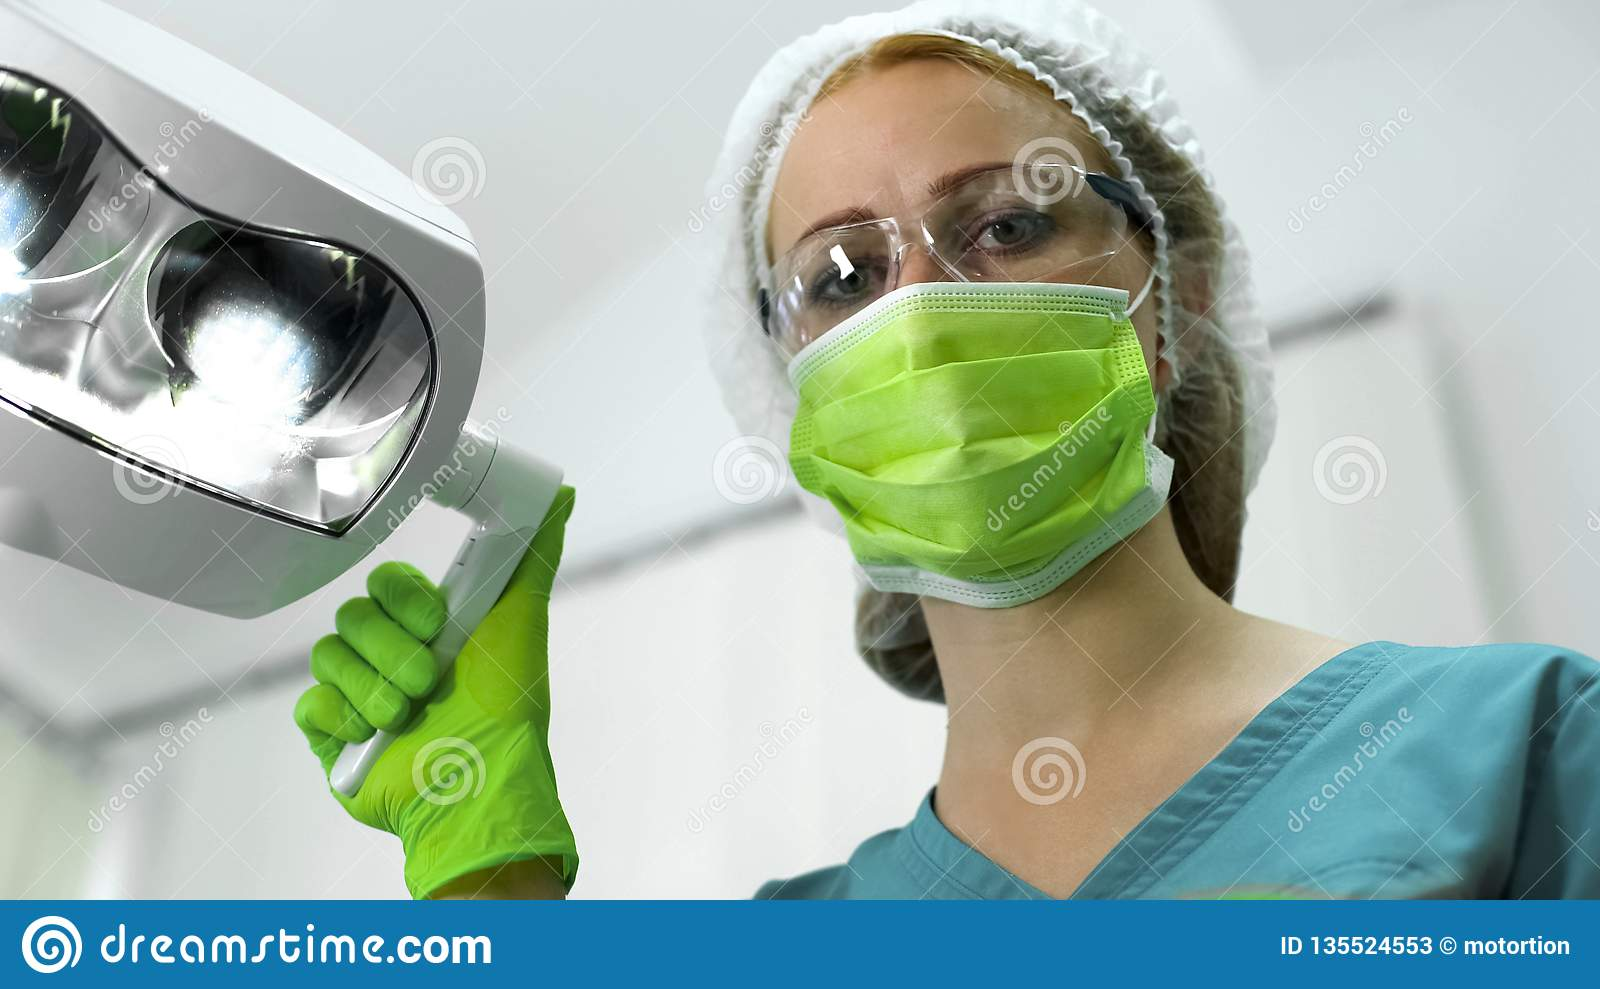mask: (793, 316, 1190, 595)
